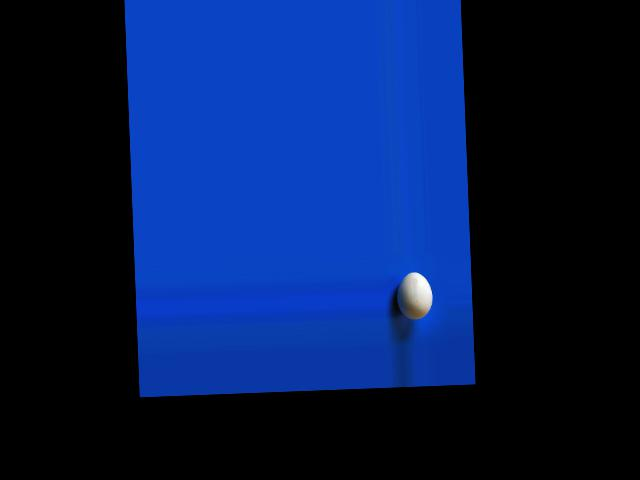egg: (395, 271, 433, 321)
